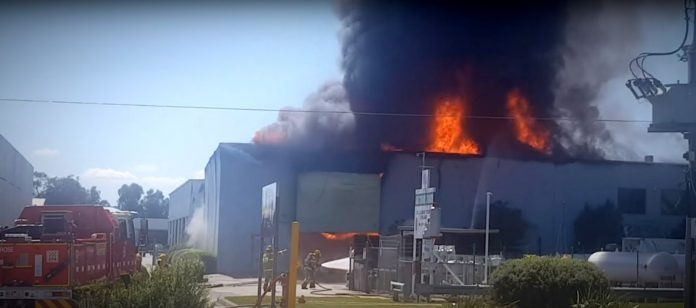fire: (417, 93, 486, 166), (506, 84, 557, 163)
